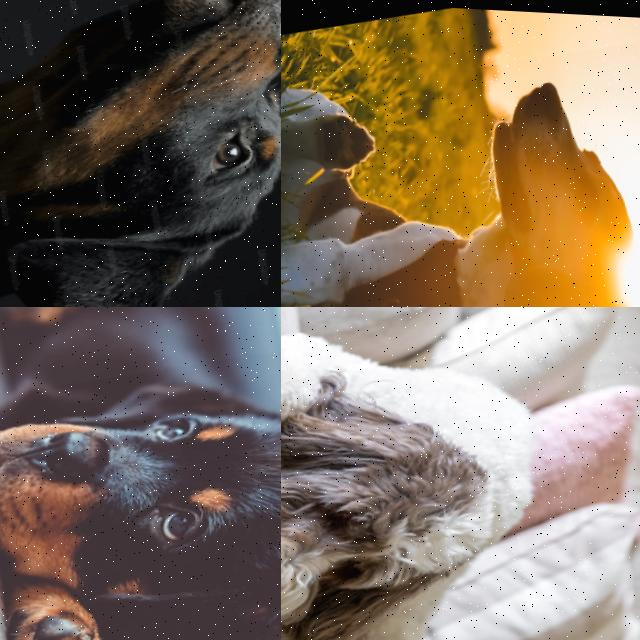beagle: (415, 28, 640, 307)
poodle: (281, 331, 551, 640)
rottweiler: (0, 310, 281, 640), (0, 0, 281, 307)
